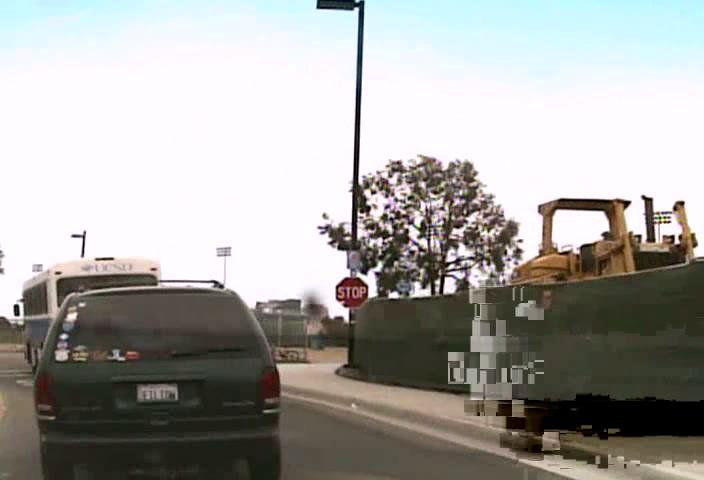stop: (334, 275, 369, 308)
